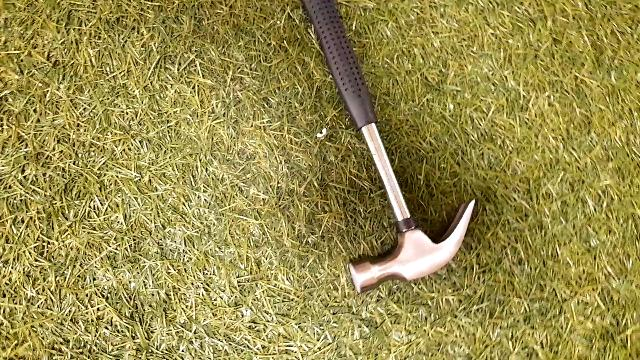hammer: (280, 0, 486, 296)
